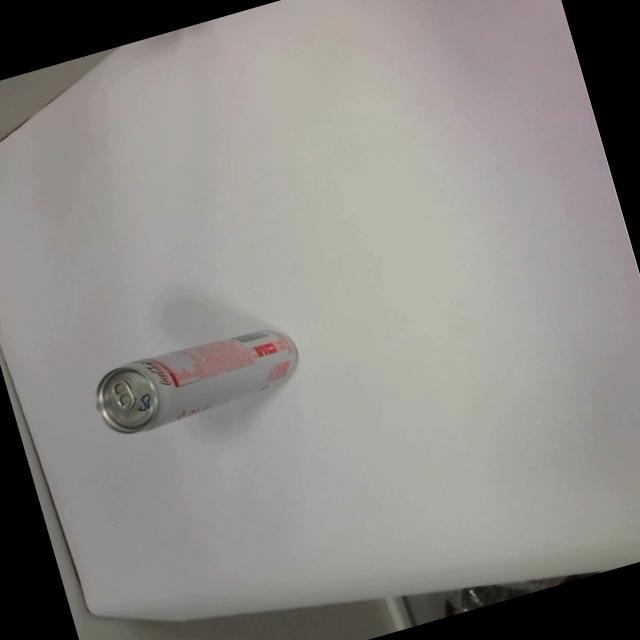debris: (85, 314, 308, 442)
